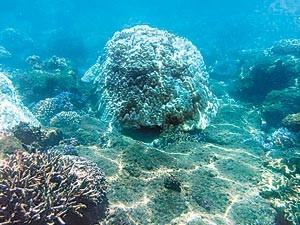bleached_corals: (71, 8, 224, 162), (1, 153, 108, 225), (0, 73, 41, 136)
